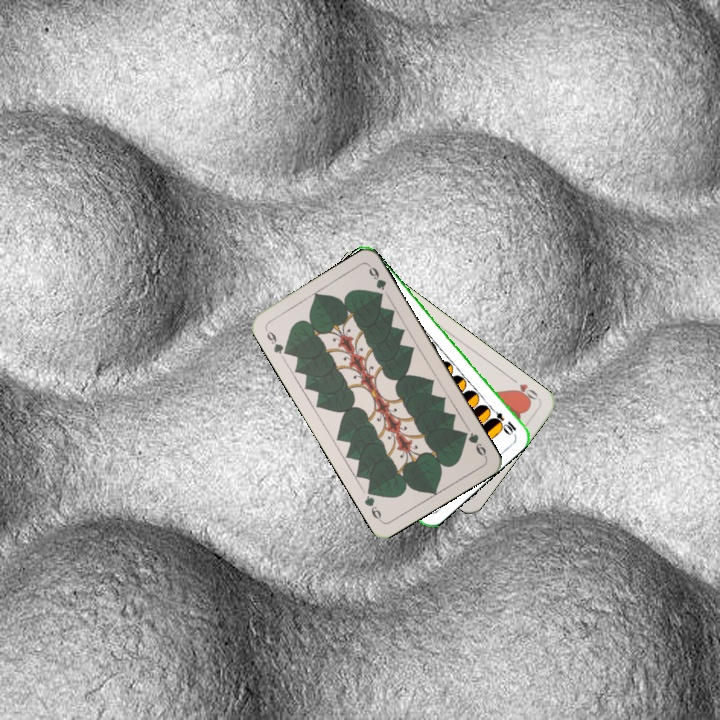E10: (485, 403, 519, 436)
G9: (458, 427, 489, 460), (261, 325, 292, 358)
HO: (507, 374, 542, 405)
